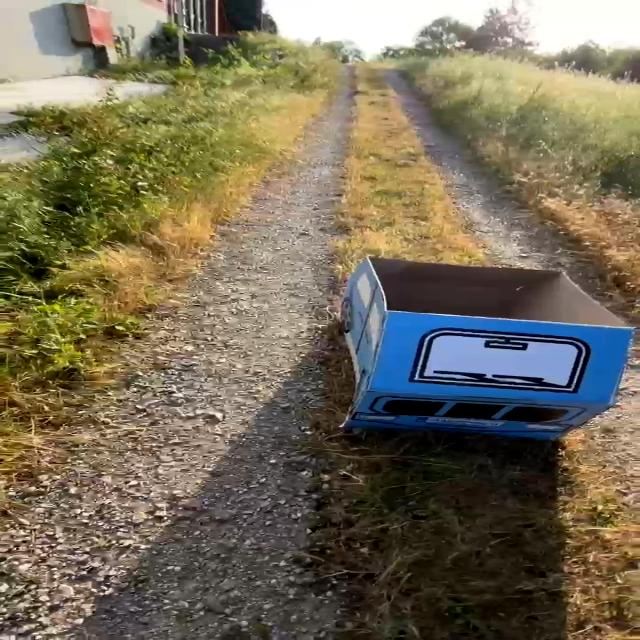blue_car: (263, 252, 640, 460)
